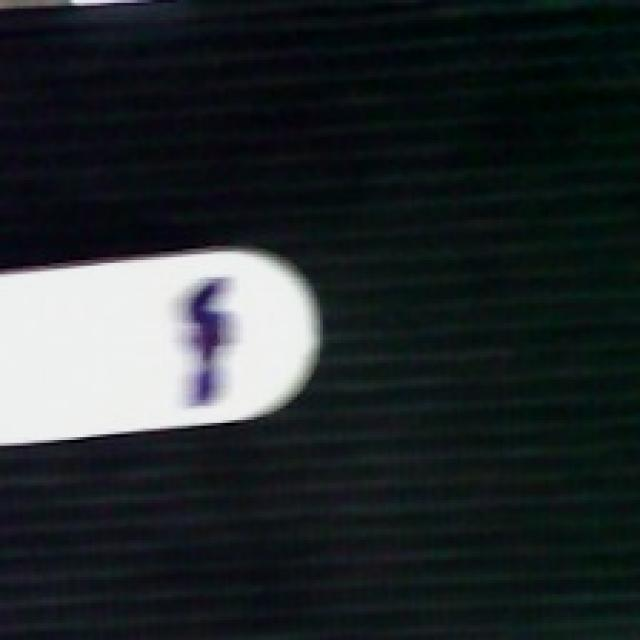defected: (0, 246, 329, 448)
